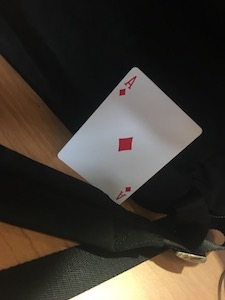AceOfDiamonds: (56, 65, 204, 207)
